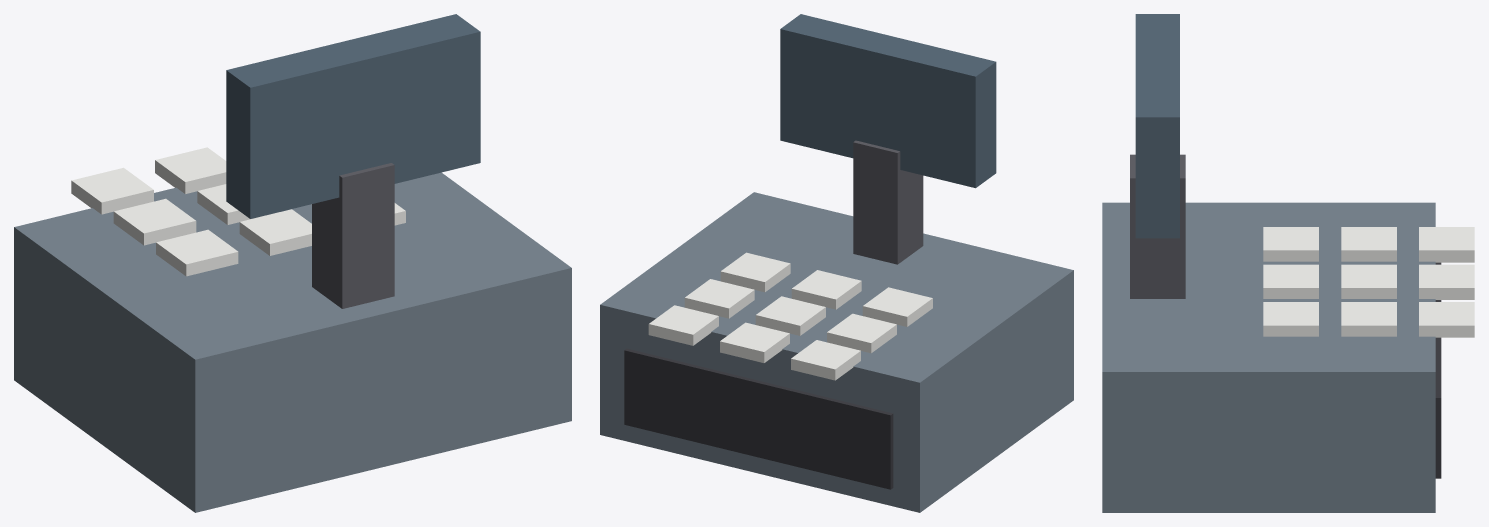
File: register.glb
The picture shows the model from 3 angles, left to right: view 1: azimuth 30°, elevation 25°; view 2: azimuth 150°, elevation 25°; view 3: azimuth 270°, elevation 25°; orthographic projection. The views are drawn at different scales.
Visible parts, largest first — view 1: reg_base, reg_display, reg_stem, reg_key.002, reg_key, reg_key.001, reg_key.003, reg_key.005, reg_key.004; view 2: reg_base, reg_display, reg_drawer, reg_stem, reg_key.008, reg_key.002, reg_key.005, reg_key, reg_key.006, reg_key.004, reg_key.003, reg_key.007 (+1 smaller); view 3: reg_base, reg_display, reg_stem, reg_key.002, reg_key.005, reg_key.008, reg_key, reg_key.001, reg_key.003, reg_key.004, reg_key.006, reg_key.007 (+1 smaller).
Part boxes in pixels (x1=…): reg_base: x1=14, y1=172, x2=571, y2=512; reg_display: x1=226, y1=14, x2=480, y2=218; reg_stem: x1=312, y1=163, x2=394, y2=308; reg_key.002: x1=71, y1=167, x2=153, y2=214; reg_key: x1=156, y1=229, x2=238, y2=276; reg_key.001: x1=113, y1=198, x2=196, y2=245; reg_key.003: x1=239, y1=209, x2=311, y2=255; reg_key.005: x1=155, y1=147, x2=226, y2=193; reg_key.004: x1=197, y1=184, x2=279, y2=224; reg_base: x1=600, y1=192, x2=1073, y2=512; reg_display: x1=780, y1=14, x2=996, y2=188; reg_drawer: x1=624, y1=348, x2=893, y2=489; reg_stem: x1=853, y1=140, x2=923, y2=264; reg_key.008: x1=648, y1=305, x2=718, y2=345; reg_key.002: x1=791, y1=340, x2=860, y2=380; reg_key.005: x1=720, y1=322, x2=789, y2=362; reg_key: x1=862, y1=287, x2=932, y2=326; reg_key.006: x1=720, y1=252, x2=790, y2=292; reg_key.004: x1=755, y1=296, x2=825, y2=335; reg_key.003: x1=791, y1=270, x2=861, y2=309; reg_key.007: x1=684, y1=279, x2=754, y2=318; reg_base: x1=1102, y1=202, x2=1435, y2=512; reg_display: x1=1135, y1=14, x2=1179, y2=238; reg_stem: x1=1130, y1=154, x2=1185, y2=298; reg_key.002: x1=1419, y1=227, x2=1474, y2=262; reg_key.005: x1=1419, y1=264, x2=1474, y2=299; reg_key.008: x1=1419, y1=302, x2=1474, y2=337; reg_key: x1=1263, y1=227, x2=1318, y2=261; reg_key.001: x1=1341, y1=227, x2=1396, y2=261; reg_key.003: x1=1263, y1=264, x2=1318, y2=298; reg_key.004: x1=1341, y1=264, x2=1396, y2=298; reg_key.006: x1=1263, y1=302, x2=1318, y2=336; reg_key.007: x1=1341, y1=302, x2=1396, y2=336.
Bounding box in the file's own units: 0.36 × 0.36 × 0.335.
